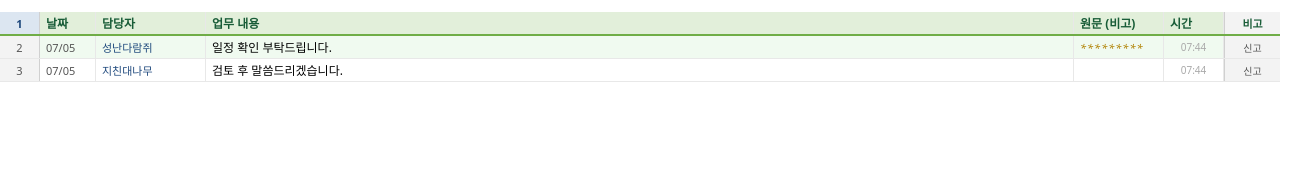
Test: ChatPanel › 원문은 기본적으로 마스킹되어 있고, 클릭하면 토글로 보였다 숨겨진다
This screenshot has width=1292, height=172.
Step 1. Click the text titled "클릭하여 보기" → (1112,47), box [1080,40,1144,54]
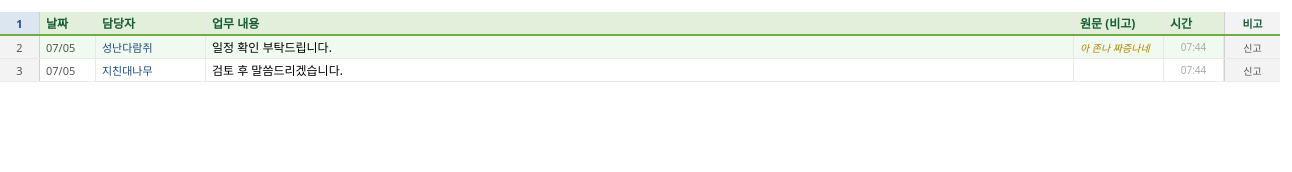
Expected: the text titled "클릭하여 보기" reads "아 존나 짜증나네"
Step 2. Click the text titled "클릭하여 보기" → (1115,47), box [1080,40,1150,54]
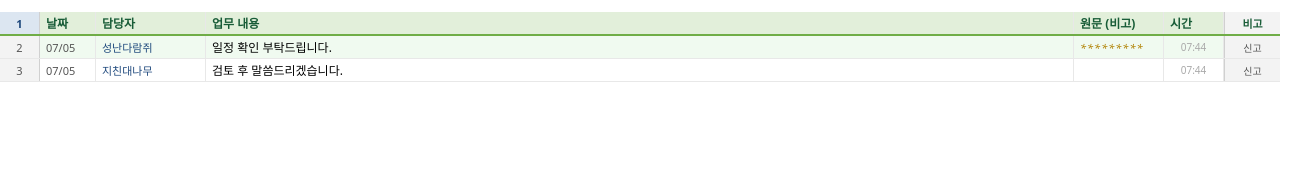
Expected: the text titled "클릭하여 보기" reads "*********", [1080,40,1144,54]
